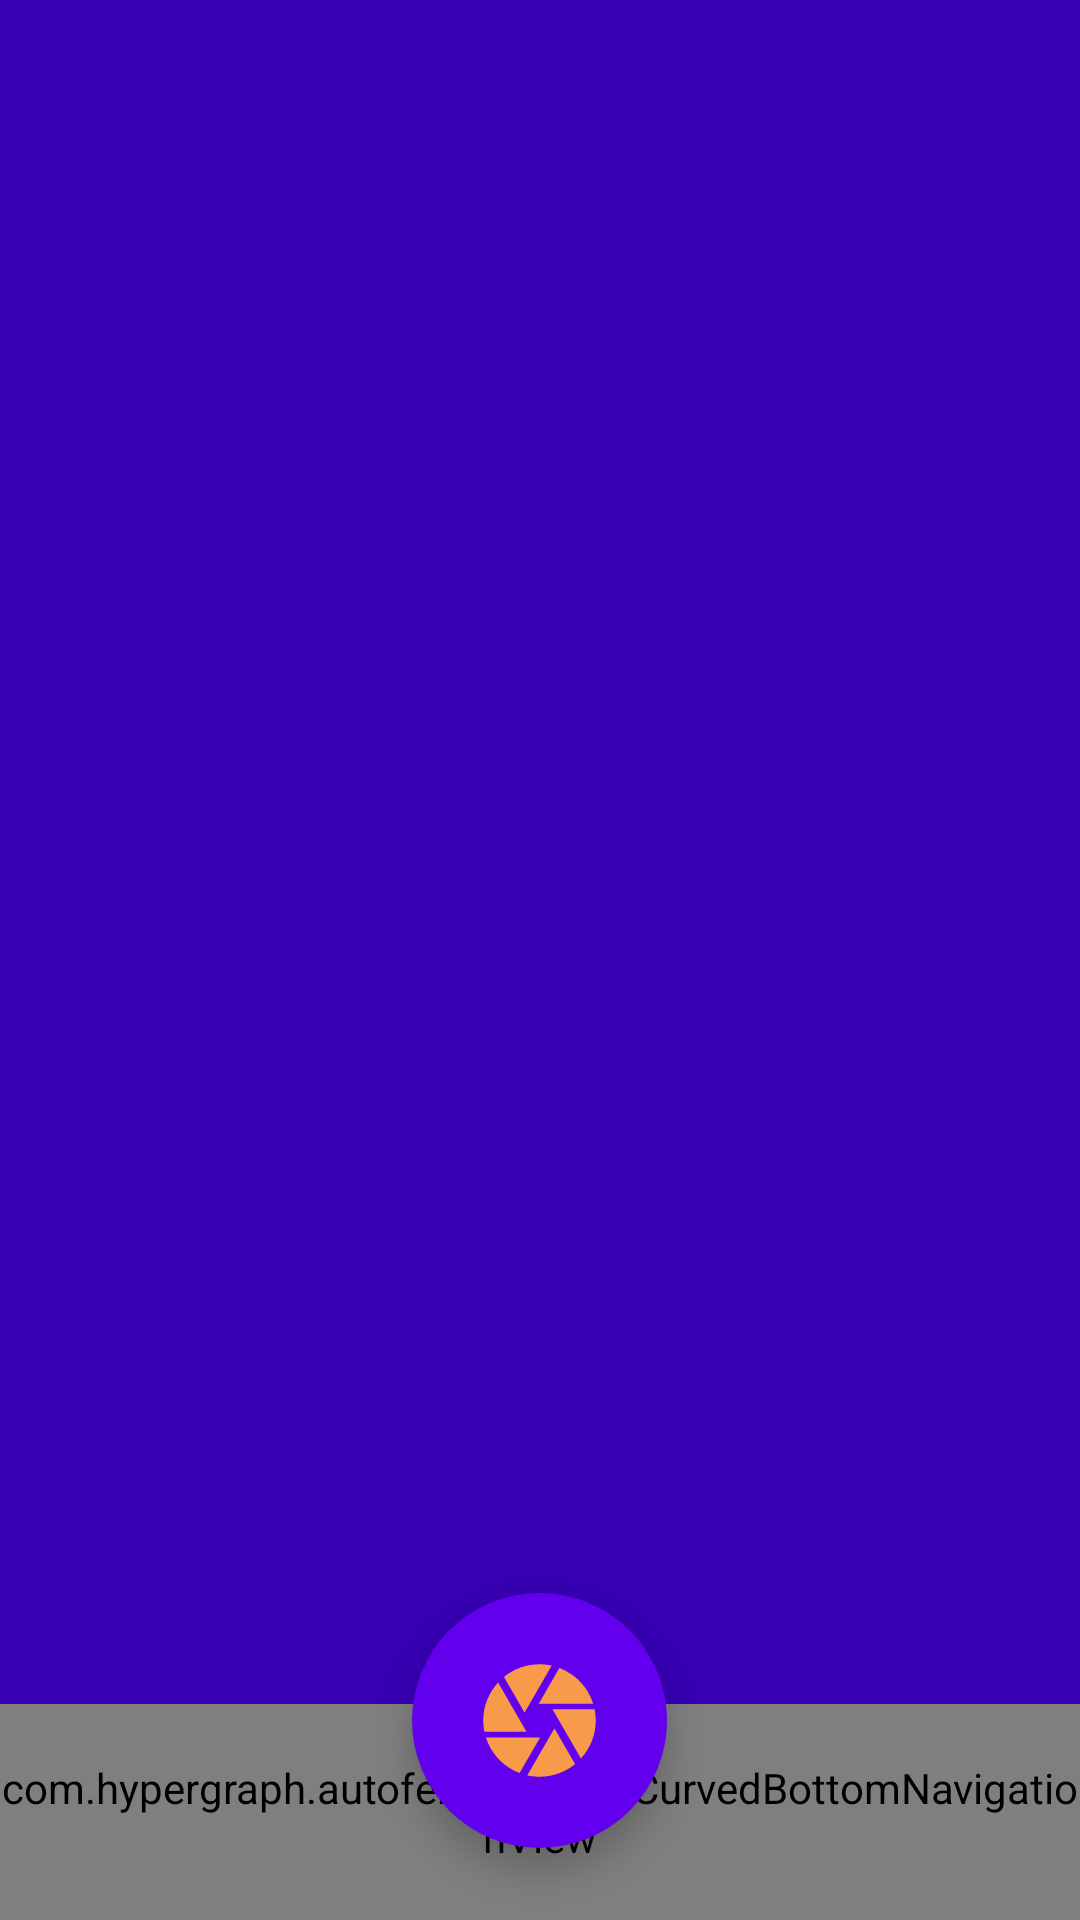

Where to tap for icons on this 1080px×1920px app screen, as point (x, y):
bottom camera: point (539, 1720)
